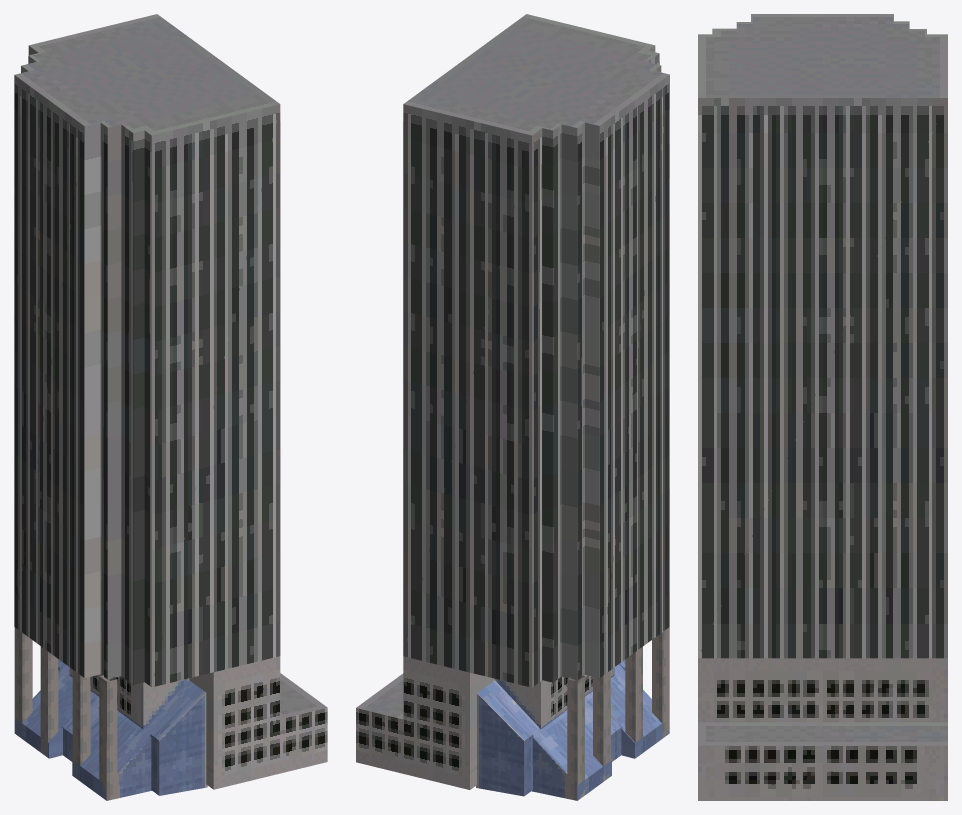
File: lodolith_ground.obj
3 views of the same model, side by side, from view 1: azimuth 30°, elevation 25°; view 2: azimuth 150°, elevation 25°; view 3: azimuth 270°, elevation 25° (orthographic).
Visible parts, largest first — view 1: LODolith_ground; view 2: LODolith_ground; view 3: LODolith_ground.
Boxes of the visible parts, x1,y1,x2,y2 form: LODolith_ground: (14,14,327,800); LODolith_ground: (356,14,669,800); LODolith_ground: (698,14,947,800).
Bounding box in the file's own units: 48.32 × 143 × 47.51.
4 materials, 4 textured.
